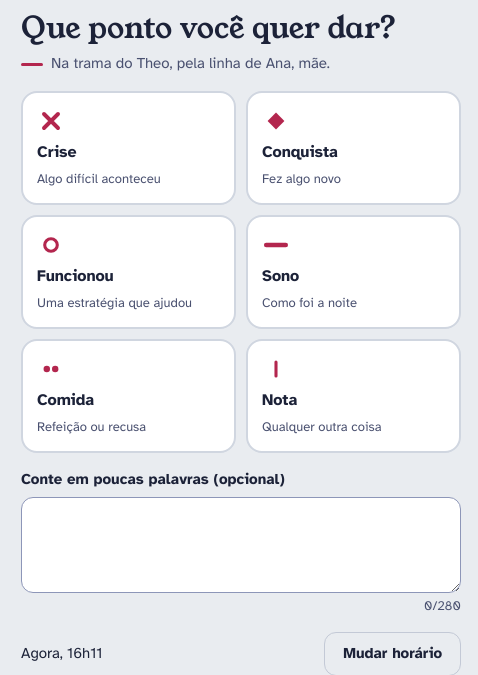
Test: "Tentar agora" com recusa do servidor mostra o motivo
Click the button "Comida Refeição ou recusa" at (128, 396), box [21,339,236,453]
(page scrolled)
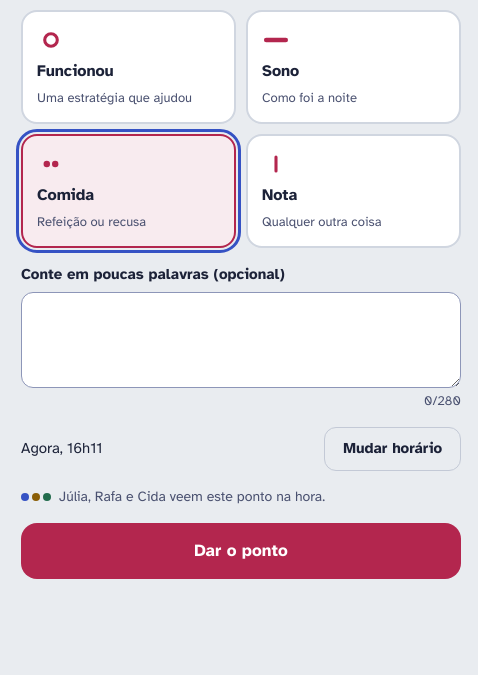
Click the button "Dar o ponto" at (241, 551), box [21,523,461,579]
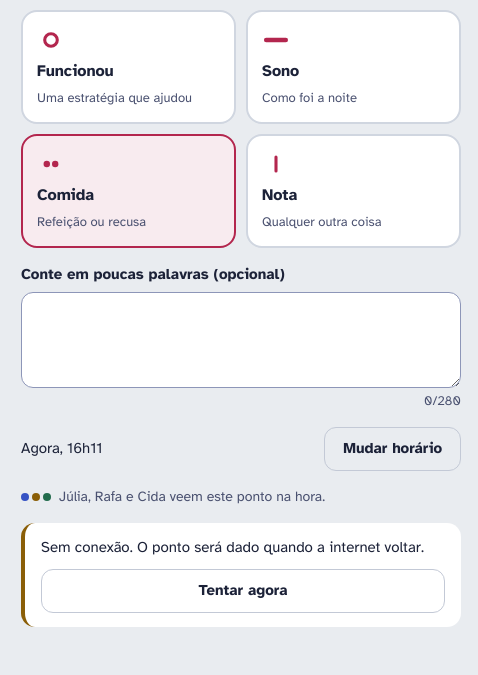
Click the button "Tentar agora" at (243, 591), box [41,569,445,613]
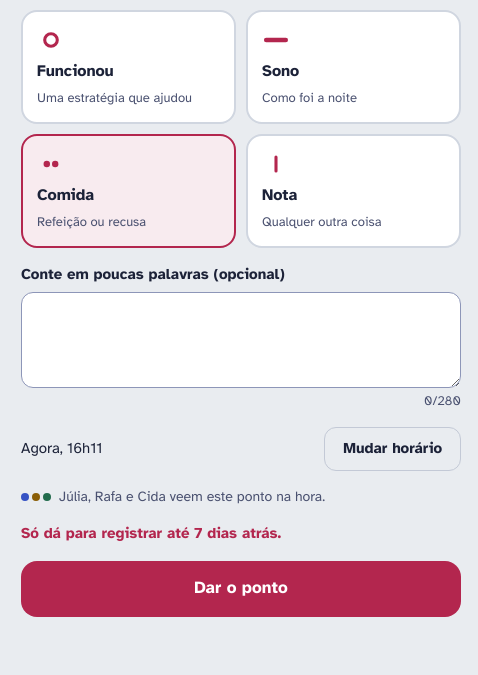
Expected: the text "Só dá para registrar até 7 dias atrás." is shown, [21,524,281,542]
